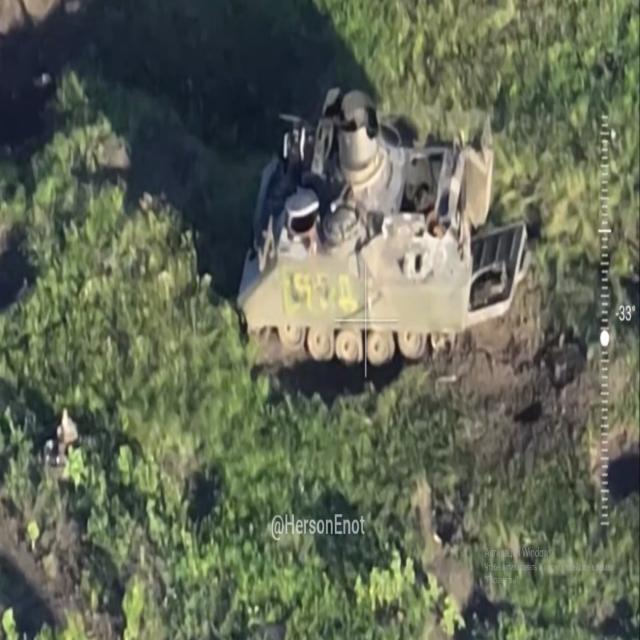APC: (237, 85, 530, 372)
